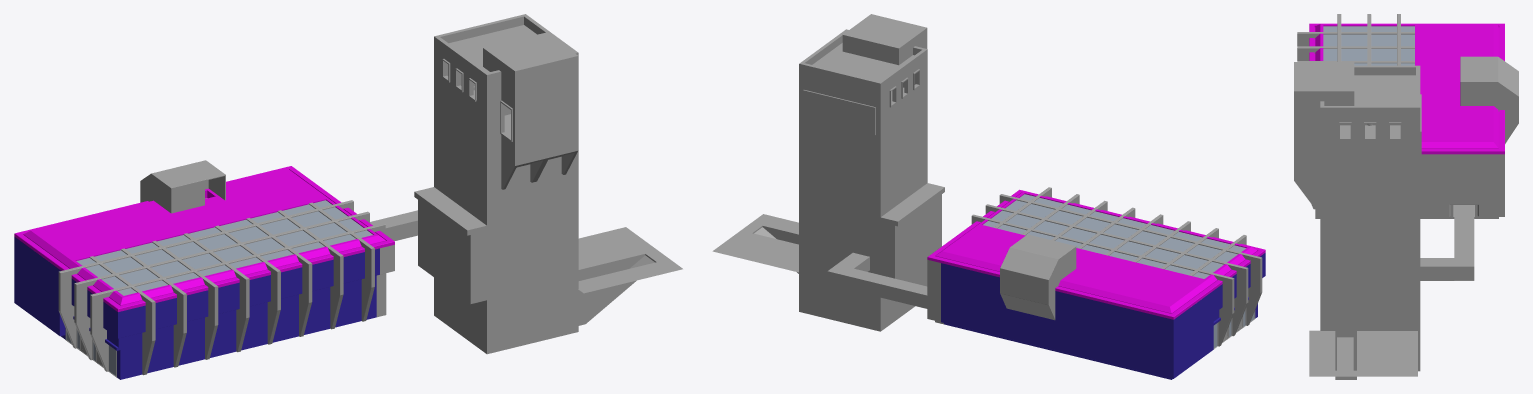
Rendered from Caneteen.fbx.
3 renders of one model, left to right at view 1: azimuth 30°, elevation 25°; view 2: azimuth 150°, elevation 25°; view 3: azimuth 270°, elevation 25°, orthographic. The views are drawn at different scales.
Parts seen in each view (by area): view 1: V_tower_wall_1, V_canteen_walls, V_canteen_roof, V_tower_lock, V_glass, shute, tower_oroof, outside_bit, polySurface4, polySurface3, polySurface2, polySurface1 (+9 smaller); view 2: V_tower_wall_2, V_canteen_walls, V_tower_wall_1, V_canteen_roof, V_glass, outside_bit, tower_oroof, shute, V_tower_lock, V_tunnel, polySurface2, polySurface4 (+2 smaller); view 3: V_tower_wall_2, V_canteen_roof, V_canteen_wall_2, V_tower_lock, shute, tower_oroof, outside_bit, V_glass, V_tunnel, V_tower_floors, polySurface5, polySurface1 (+4 smaller).
Boxes of the visible parts, x1=… form: V_tower_wall_1: x1=414, y1=45, x2=578, y2=354; V_canteen_walls: x1=14, y1=198, x2=379, y2=379; V_canteen_roof: x1=14, y1=166, x2=394, y2=311; V_tower_lock: x1=483, y1=32, x2=578, y2=189; V_glass: x1=66, y1=200, x2=372, y2=375; shute: x1=578, y1=227, x2=682, y2=325; tower_oroof: x1=434, y1=14, x2=578, y2=83; outside_bit: x1=140, y1=160, x2=225, y2=213; polySurface4: x1=90, y1=223, x2=385, y2=371; polySurface3: x1=74, y1=211, x2=369, y2=360; polySurface2: x1=58, y1=200, x2=353, y2=348; polySurface1: x1=89, y1=256, x2=155, y2=375; V_tower_wall_2: x1=799, y1=72, x2=880, y2=331; V_canteen_walls: x1=941, y1=253, x2=1265, y2=379; V_tower_wall_1: x1=880, y1=57, x2=944, y2=331; V_canteen_roof: x1=927, y1=189, x2=1265, y2=319; V_glass: x1=983, y1=194, x2=1254, y2=348; outside_bit: x1=1000, y1=234, x2=1076, y2=320; tower_oroof: x1=799, y1=29, x2=927, y2=91; shute: x1=712, y1=214, x2=798, y2=273; V_tower_lock: x1=842, y1=14, x2=927, y2=87; V_tunnel: x1=827, y1=252, x2=927, y2=308; polySurface2: x1=971, y1=214, x2=1234, y2=346; polySurface4: x1=999, y1=194, x2=1262, y2=325; V_tower_wall_2: x1=1320, y1=94, x2=1421, y2=371; V_canteen_roof: x1=1309, y1=23, x2=1504, y2=154; V_canteen_wall_2: x1=1315, y1=154, x2=1504, y2=218; V_tower_lock: x1=1294, y1=62, x2=1354, y2=211; shute: x1=1309, y1=330, x2=1417, y2=379; tower_oroof: x1=1320, y1=65, x2=1420, y2=116; outside_bit: x1=1460, y1=56, x2=1518, y2=143; V_glass: x1=1323, y1=26, x2=1414, y2=65; V_tunnel: x1=1420, y1=205, x2=1474, y2=280; V_tower_floors: x1=1337, y1=125, x2=1400, y2=369; polySurface5: x1=1297, y1=46, x2=1414, y2=60; polySurface1: x1=1297, y1=32, x2=1414, y2=46.
Bounding box in the file's own units: 4048 × 1956 × 1448.
